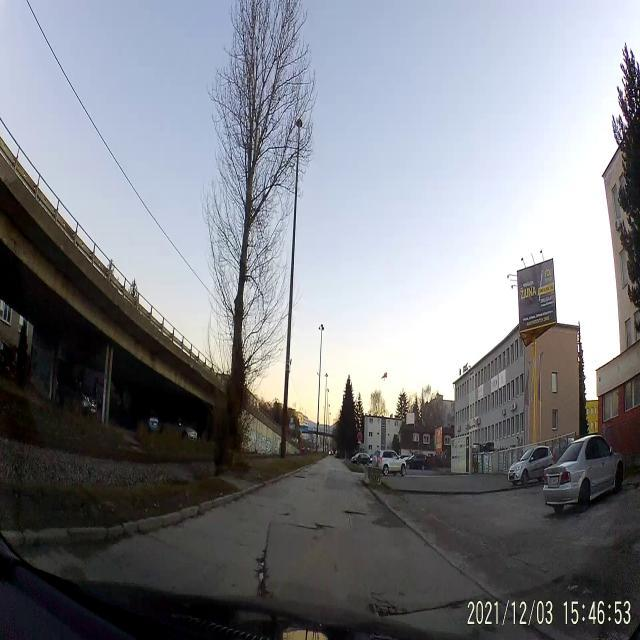Pothole: (370, 586, 408, 620), (253, 550, 277, 602), (294, 518, 334, 534), (342, 505, 368, 520)
